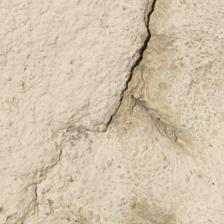Crack: (0, 12, 126, 108), (47, 0, 114, 94)
